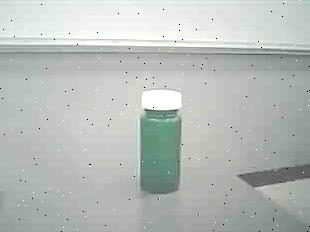Bottle C: (130, 80, 193, 206)
